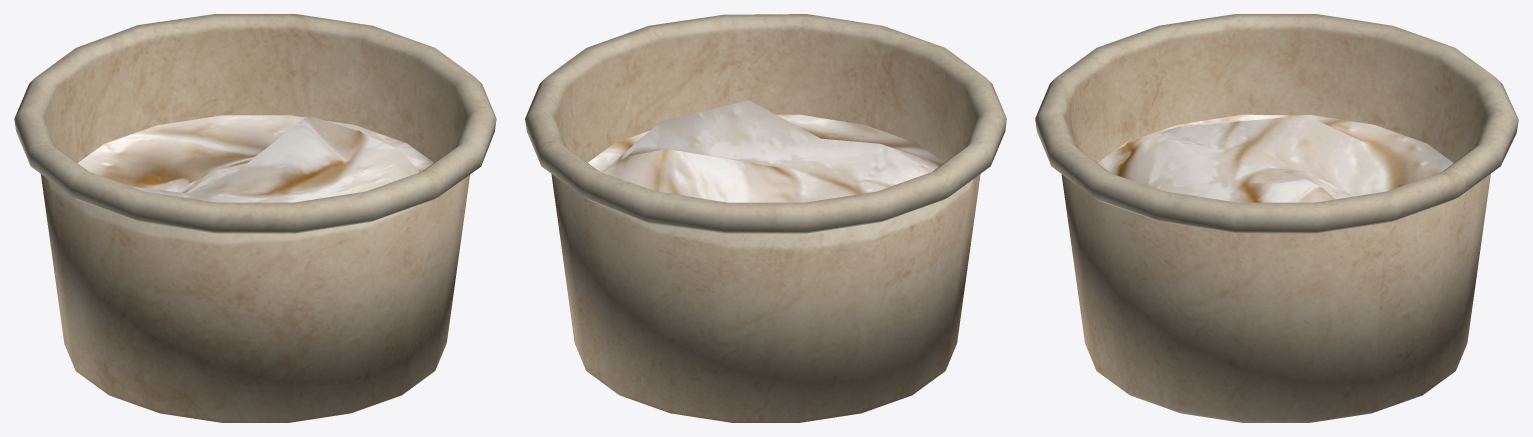
File: garlic_mayo.glb
3 views of the same model, side by side, from view 1: azimuth 30°, elevation 25°; view 2: azimuth 150°, elevation 25°; view 3: azimuth 270°, elevation 25° (orthographic).
Visible parts, largest first — view 1: Sauce_ranch_sauceMaterial_0; view 2: Sauce_ranch_sauceMaterial_0; view 3: Sauce_ranch_sauceMaterial_0.
Part boxes in pixels (box(x1,y1,x2,y2)): Sauce_ranch_sauceMaterial_0: box(14, 14, 496, 422); Sauce_ranch_sauceMaterial_0: box(525, 14, 1006, 422); Sauce_ranch_sauceMaterial_0: box(1035, 14, 1518, 422).
Bounding box in the file's own units: 1.49 × 0.806 × 1.51.
Materials: 1 (1 with a texture image).
